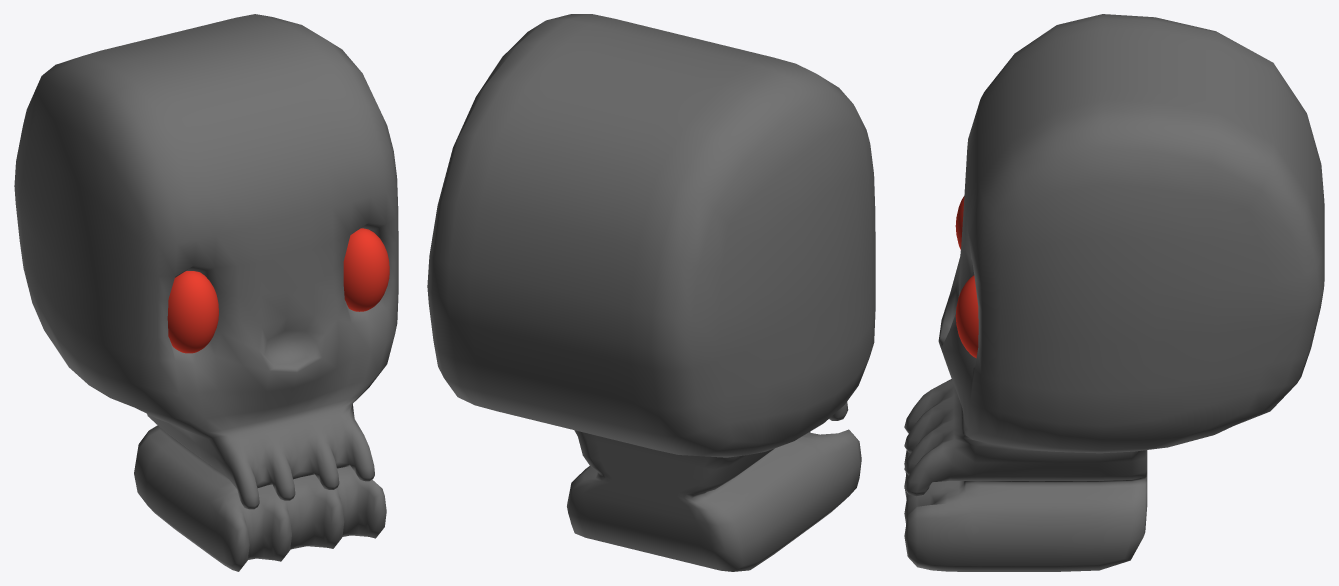
File: скелет.fbx
3 renders of one model, left to right at view 1: azimuth 30°, elevation 25°; view 2: azimuth 150°, elevation 25°; view 3: azimuth 270°, elevation 25°, orthographic. The views are drawn at different scales.
Visible parts, largest first — view 1: Cube, Sphere; view 2: Cube; view 3: Cube, Sphere.
Boxes of the visible parts, x1,y1,x2,y2 form: Cube: (14, 14, 398, 571); Sphere: (167, 228, 389, 353); Cube: (427, 14, 875, 571); Cube: (904, 14, 1324, 571); Sphere: (955, 196, 978, 358).
Bounding box in the file's own units: 199 × 286 × 230.
